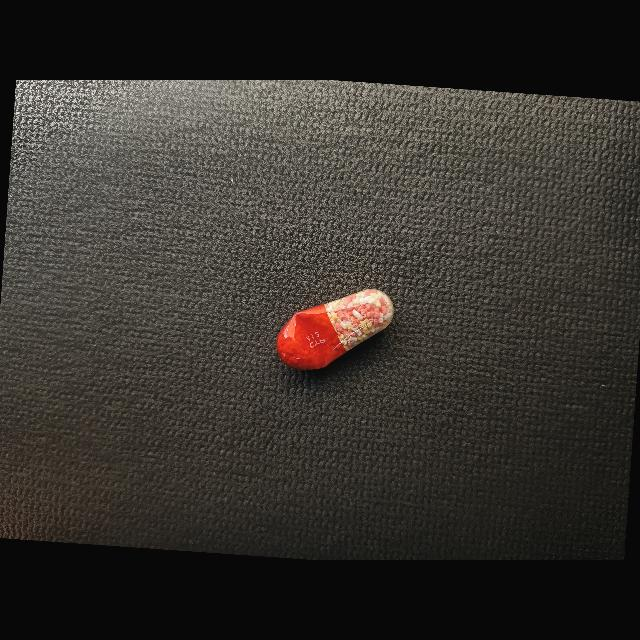Defective Capsule: (277, 289, 394, 370)
